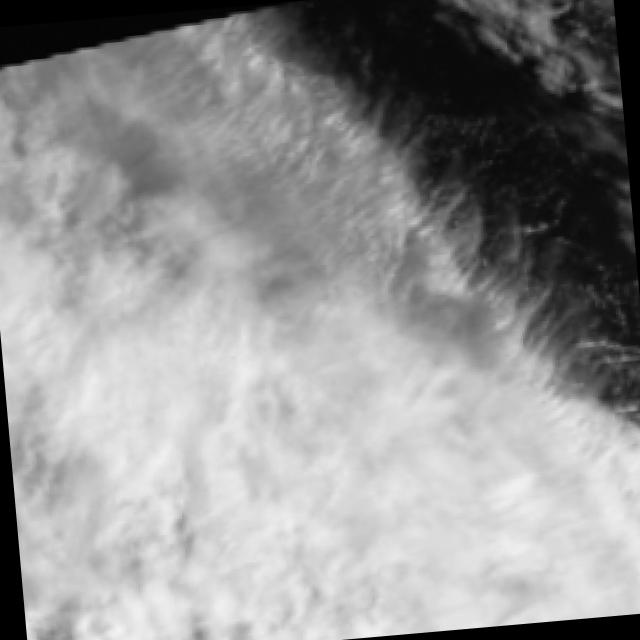CB: (13, 438, 640, 640), (3, 328, 426, 491), (0, 284, 175, 366)
